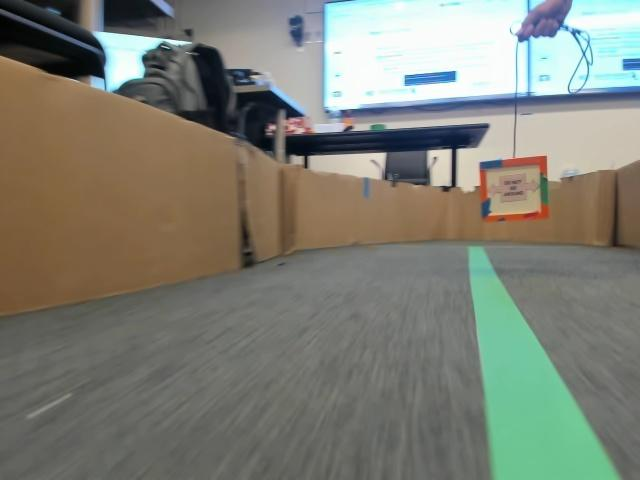Do Not Go Around: (487, 176, 537, 202)
